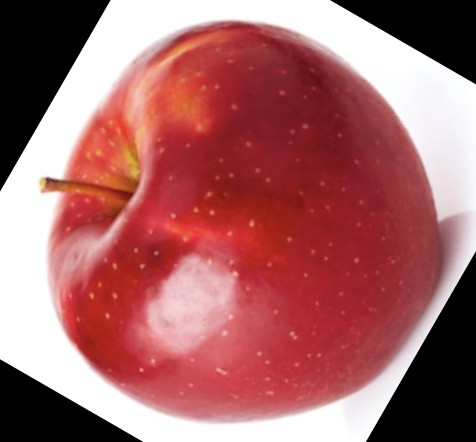fresh_apple: (46, 18, 448, 421)
